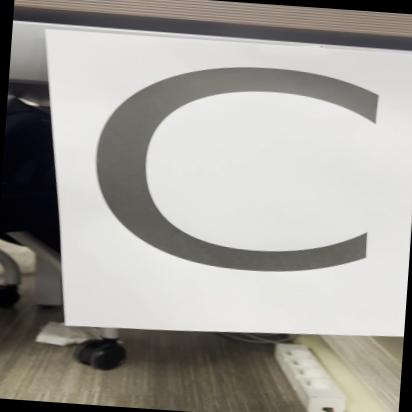seat: (26, 27, 412, 331)
